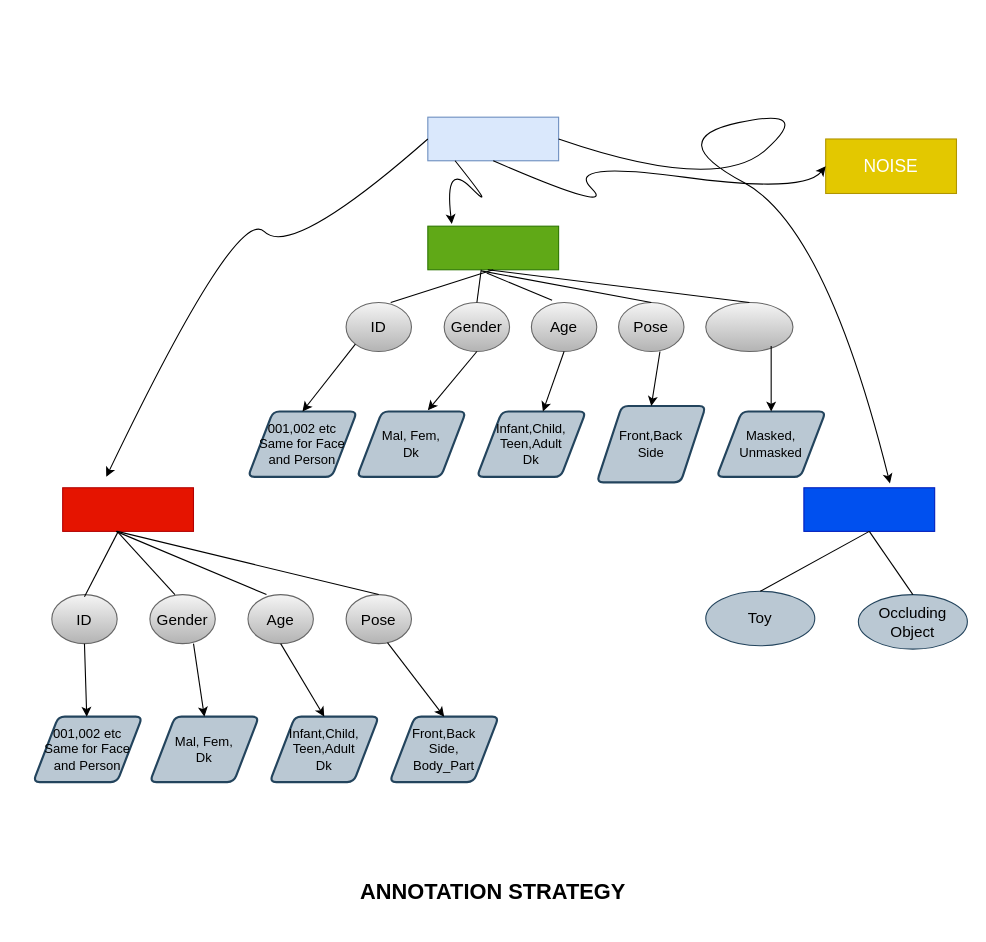
Some shapes in this 986 by 942 pixel diagram are drawn without their labels. Here are the shapes that lost their labels. From the top down, the centre of each, then its label:
At [493,138]: "FRAME".
At [493,247]: "FACE".
At [749,326]: "Appearance".
At [127,509]: "PERSON".
At [869,509]: "OBJECT".
